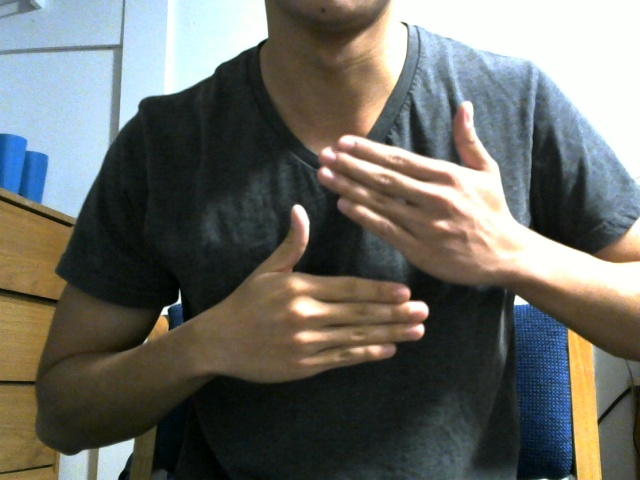Enjoy: (174, 91, 526, 395)
